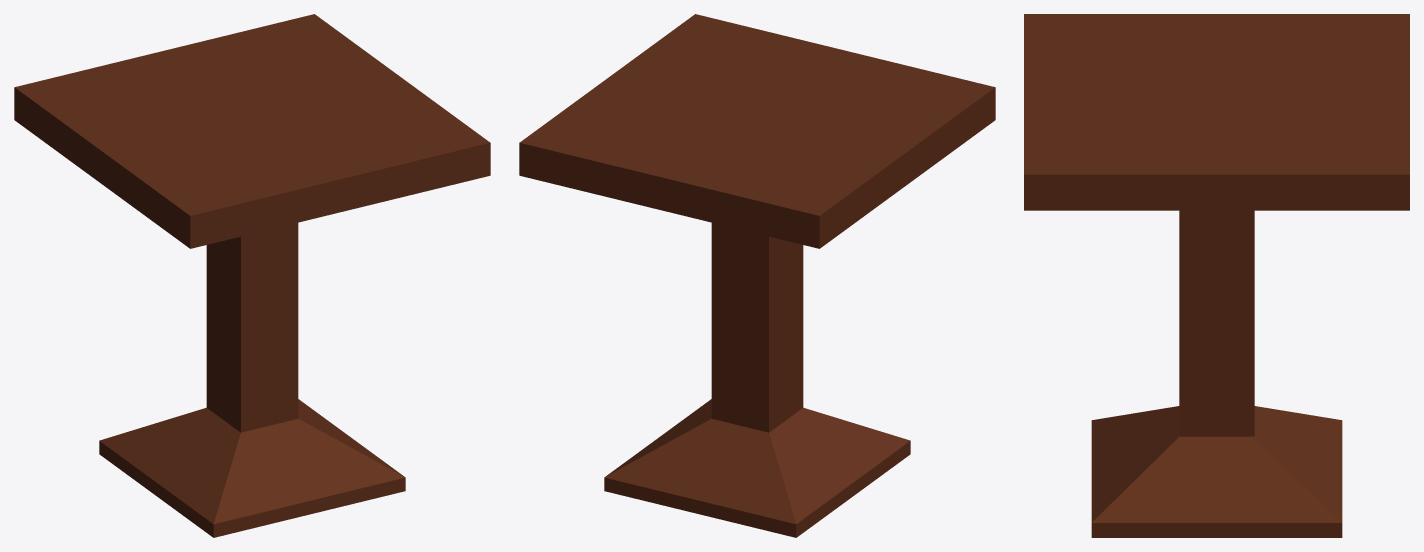
The model's file is TischKlein.glb.
3 renders of one model, left to right at view 1: azimuth 30°, elevation 25°; view 2: azimuth 150°, elevation 25°; view 3: azimuth 270°, elevation 25°, orthographic. The views are drawn at different scales.
Visible parts, largest first — view 1: Kleiner Tisch; view 2: Kleiner Tisch; view 3: Kleiner Tisch.
Boxes of the visible parts, x1,y1,x2,y2 form: Kleiner Tisch: [14, 14, 490, 537]; Kleiner Tisch: [519, 14, 995, 537]; Kleiner Tisch: [1024, 14, 1409, 537].
Size of the model in its own units: 1.32 by 1.5 by 1.34.
